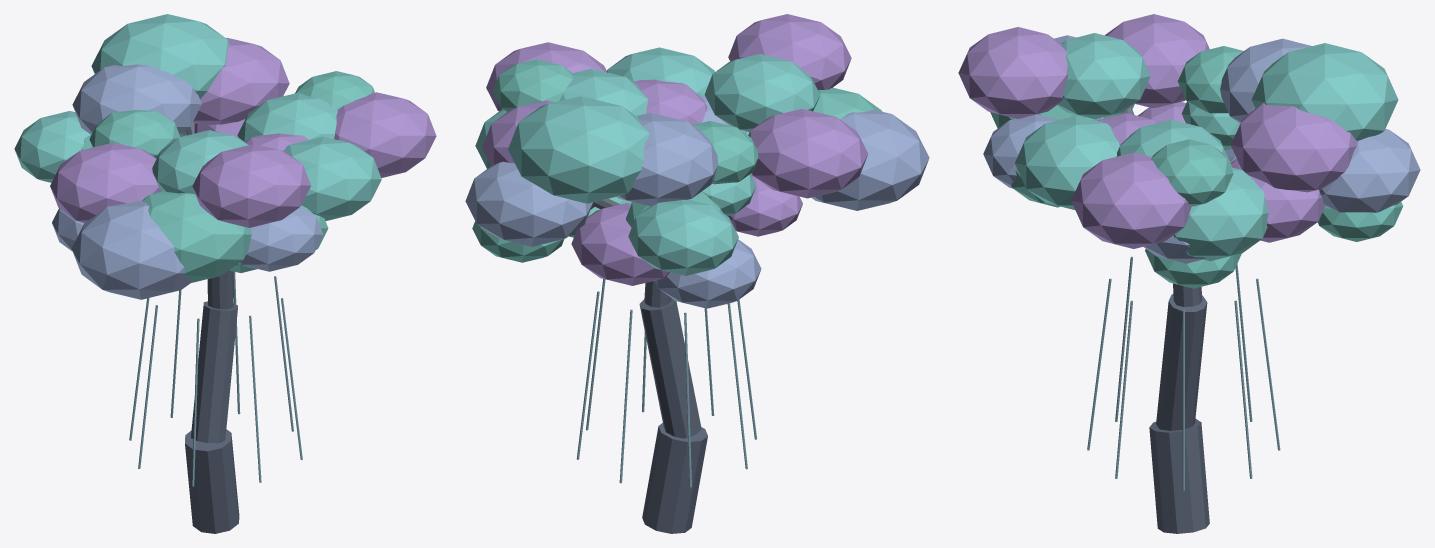
File: hexcore_living_tree_06.glb
3 views of the same model, side by side, from view 1: azimuth 30°, elevation 25°; view 2: azimuth 150°, elevation 25°; view 3: azimuth 270°, elevation 25° (orthographic). The views are drawn at different scales.
Parts seen in each view (by area): view 1: world; view 2: world; view 3: world.
Part boxes in pixels (left/top/right/bottom): world: left=14, top=14, right=436, bottom=533; world: left=465, top=14, right=929, bottom=533; world: left=958, top=14, right=1420, bottom=533.
Bounding box in the file's own units: 22.54 × 25.43 × 22.04.
